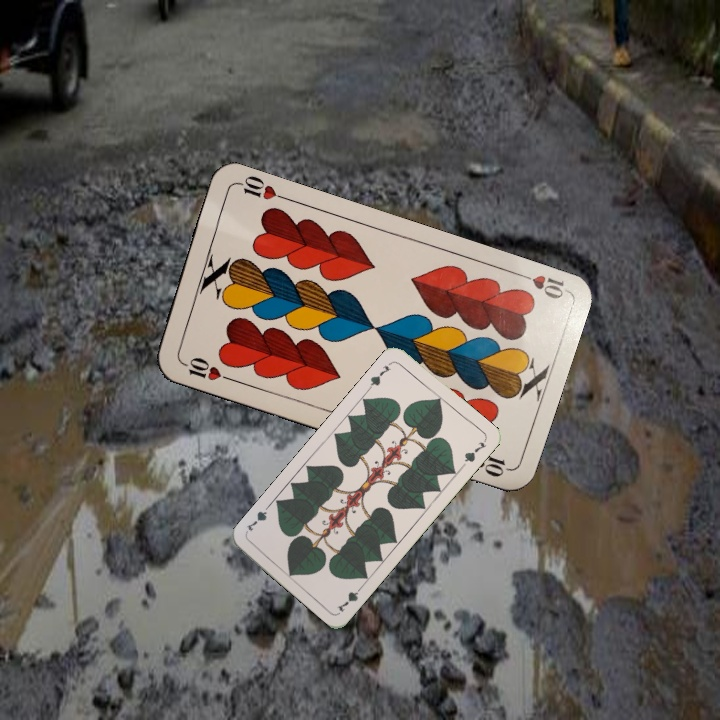G7: (333, 581, 366, 615), (364, 361, 393, 392)
H10: (511, 268, 569, 302), (176, 353, 234, 384)
